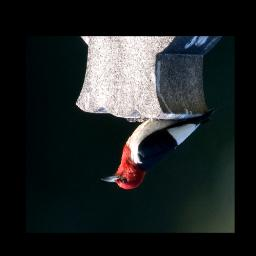Woodpecker: (97, 102, 222, 192)
